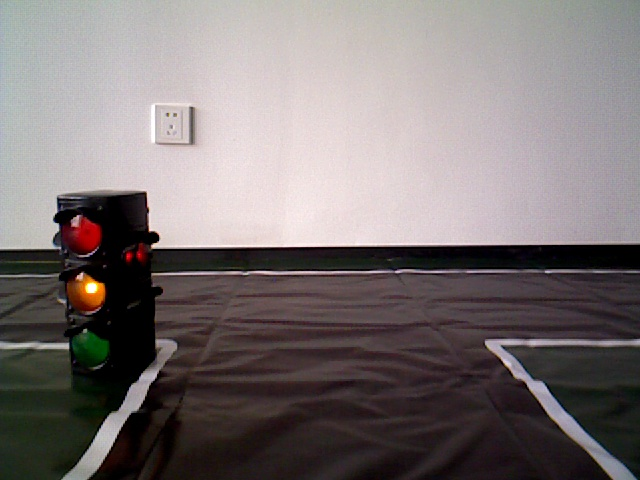yellow: (58, 192, 151, 382)
